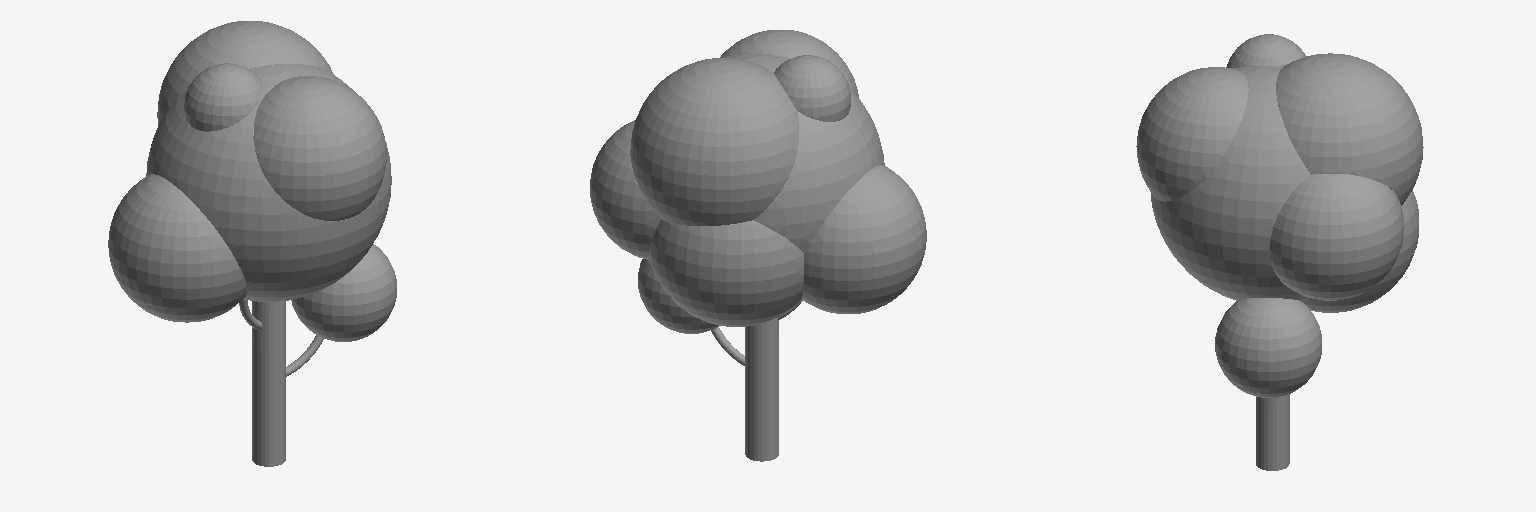
Rendered from strom.obj.
The picture shows the model from 3 angles: view 1: azimuth 30°, elevation 25°; view 2: azimuth 150°, elevation 25°; view 3: azimuth 270°, elevation 25°; orthographic projection.
Parts seen in each view (by area): view 1: Strom; view 2: Strom; view 3: Strom.
Boxes of the visible parts, x1=… form: Strom: x1=108, y1=21, x2=396, y2=466; Strom: x1=590, y1=30, x2=926, y2=461; Strom: x1=1136, y1=34, x2=1423, y2=470.
Bounding box in the file's own units: 15.95 × 21.7 × 13.88.